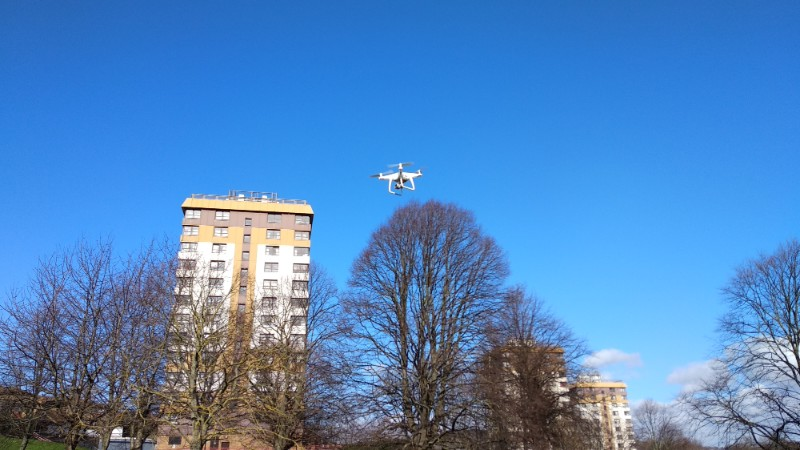drone: (370, 159, 428, 197)
